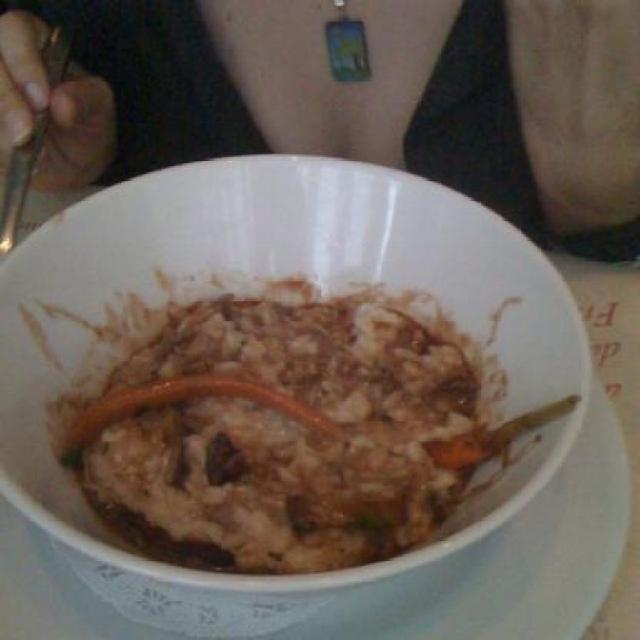Risotto: (66, 279, 482, 572)
